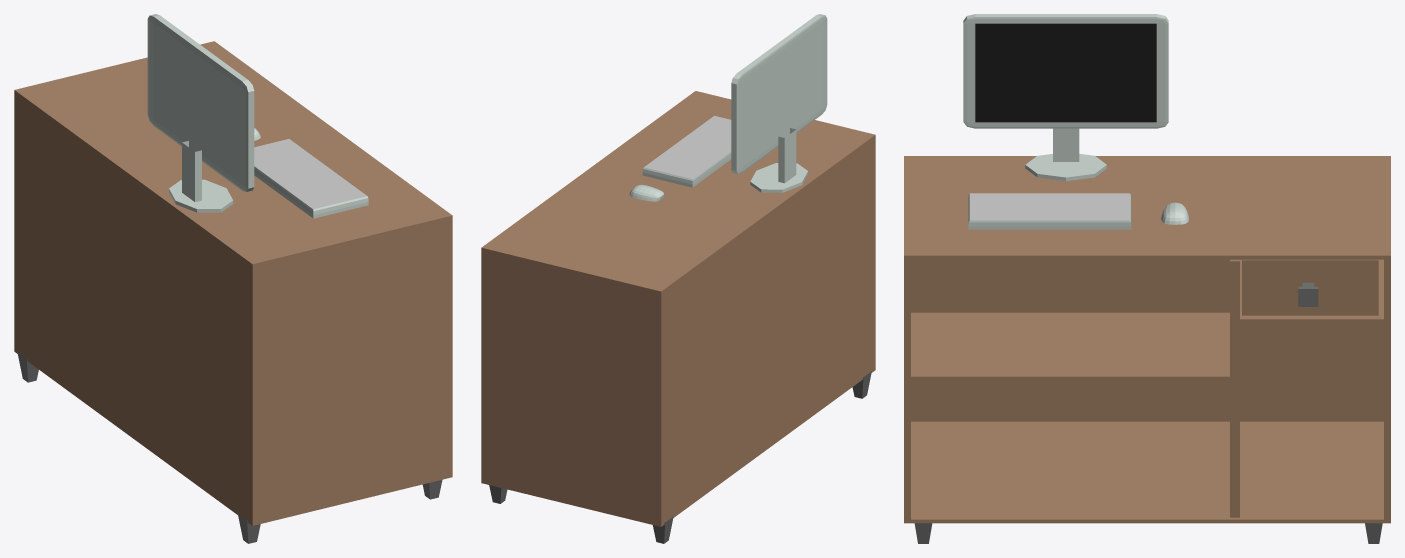
The model's file is EscitorioCon_PC_02.fbx.
The picture shows the model from 3 angles, left to right: view 1: azimuth 30°, elevation 25°; view 2: azimuth 150°, elevation 25°; view 3: azimuth 270°, elevation 25°; orthographic projection. The views are drawn at different scales.
Visible parts, largest first — view 1: Escritorio, Monitor, Teclado; view 2: Escritorio, Monitor, Teclado; view 3: Escritorio, Monitor, Teclado.
Boxes of the visible parts, box(x1,y1,x2,y2) form: Escritorio: box(14, 41, 452, 543); Monitor: box(147, 14, 254, 212); Teclado: box(254, 139, 368, 218); Escritorio: box(481, 91, 875, 543); Monitor: box(731, 14, 827, 192); Teclado: box(642, 116, 731, 187); Escritorio: box(904, 156, 1390, 543); Monitor: box(963, 14, 1168, 181); Teclado: box(968, 193, 1131, 229).
Size of the model in its own units: 79.72 by 151 by 149.
